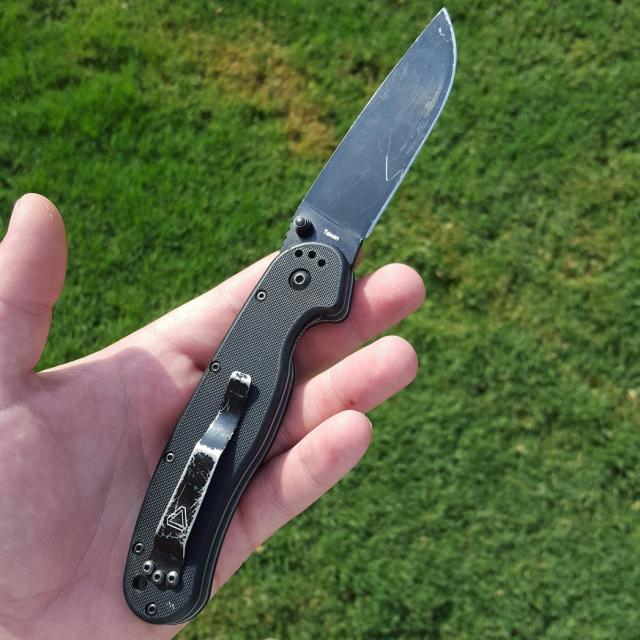knife: (116, 8, 468, 640)
